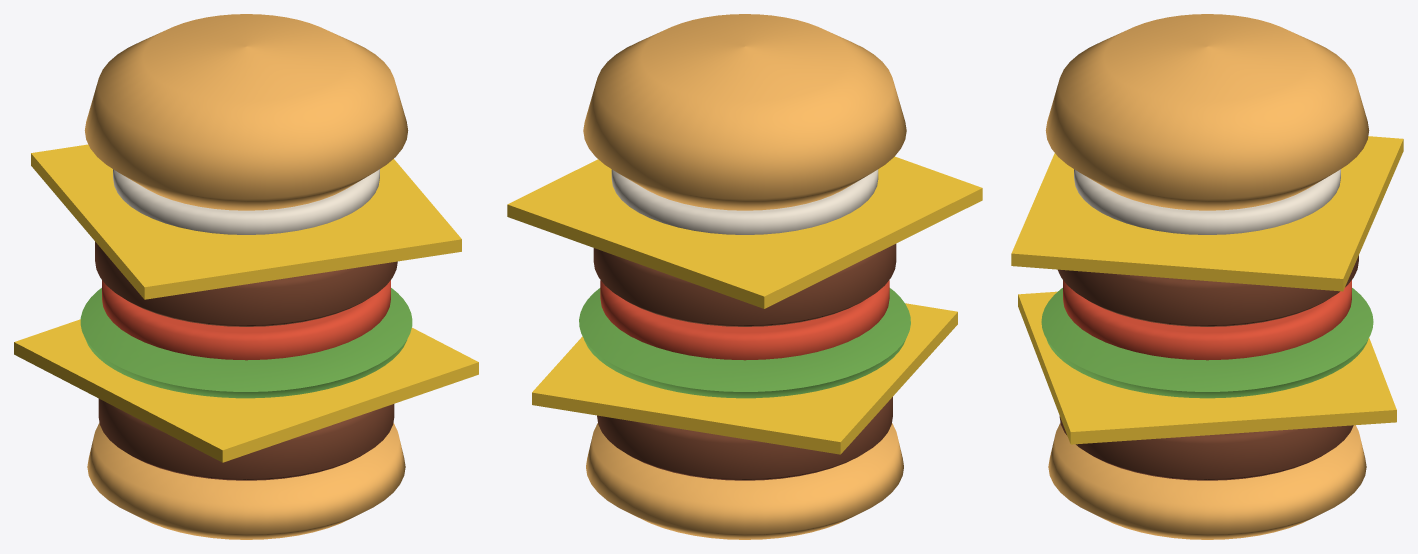
File: burger.glb
3 views of the same model, side by side, from view 1: azimuth 30°, elevation 25°; view 2: azimuth 150°, elevation 25°; view 3: azimuth 270°, elevation 25° (orthographic).
Visible parts, largest first — view 1: top-bun, cheese-top, cheese-bottom, bottom-bun, lettuce, patty-bottom, patty-top, tomato, onion; view 2: top-bun, cheese-top, cheese-bottom, bottom-bun, lettuce, patty-top, patty-bottom, tomato, onion; view 3: top-bun, cheese-top, cheese-bottom, bottom-bun, lettuce, patty-top, tomato, patty-bottom, onion.
Boxes of the visible parts, x1,y1,x2,y2 form: top-bun: (84, 14, 408, 210); cheese-top: (31, 144, 461, 299); cheese-bottom: (14, 319, 478, 462); bottom-bun: (87, 423, 405, 539); lettuce: (80, 288, 412, 398); patty-bottom: (98, 399, 394, 480); patty-top: (95, 241, 397, 326); tomato: (102, 280, 390, 360); onion: (113, 169, 379, 234); top-bun: (583, 14, 906, 210); cheese-top: (507, 156, 982, 308); cheese-bottom: (532, 303, 957, 454); bottom-bun: (586, 423, 903, 539); lettuce: (579, 288, 910, 398); patty-top: (593, 244, 896, 326); patty-bottom: (597, 397, 892, 480); tomato: (600, 280, 889, 360); onion: (611, 169, 878, 234); top-bun: (1045, 14, 1369, 210); cheese-top: (1011, 136, 1403, 291); cheese-bottom: (1018, 291, 1396, 444); bottom-bun: (1048, 423, 1366, 539); lettuce: (1041, 288, 1373, 398); patty-top: (1058, 255, 1358, 326); tomato: (1063, 280, 1351, 360); patty-bottom: (1059, 416, 1353, 480); onion: (1074, 169, 1340, 234).
Size of the model in its own units: 2.28 by 2.81 by 2.28.
